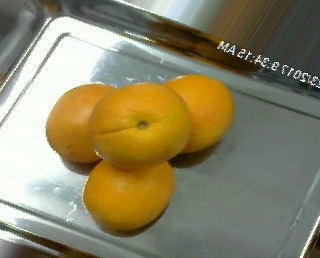Orange: (89, 82, 189, 167), (82, 155, 174, 231), (44, 82, 127, 162), (159, 73, 233, 152)
